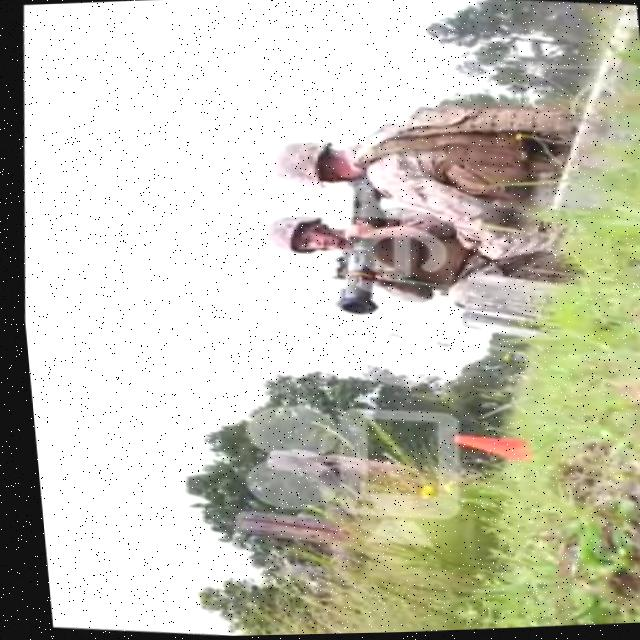rocket: (321, 180, 386, 316)
